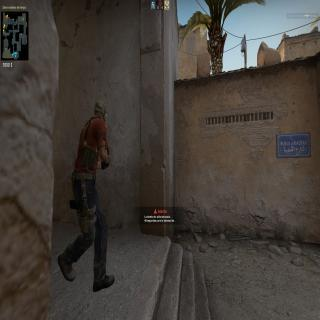T-Head: (93, 98, 108, 125)
